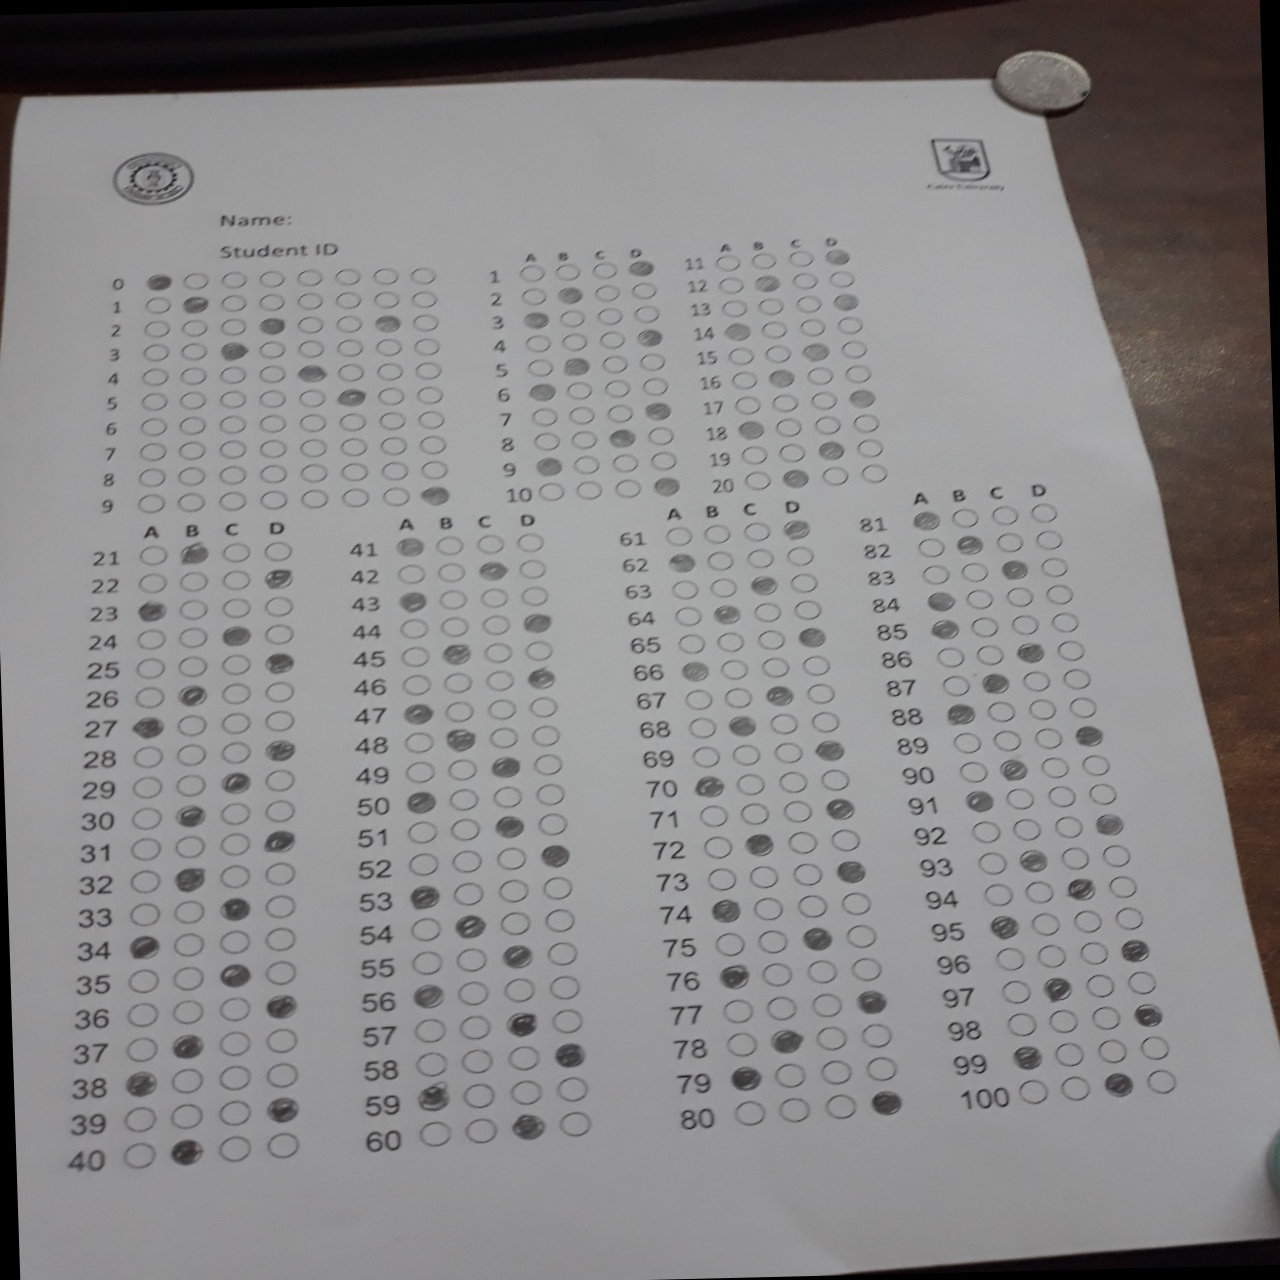not-c: (218, 1099, 256, 1126), (215, 1133, 252, 1160), (706, 574, 742, 601), (168, 1068, 205, 1094), (261, 1060, 299, 1085), (122, 1107, 159, 1132), (121, 1143, 158, 1169), (264, 1132, 301, 1158), (123, 1036, 159, 1062), (213, 1063, 250, 1089), (166, 1102, 203, 1126), (985, 697, 1015, 724), (821, 767, 851, 794), (515, 554, 545, 581), (411, 915, 442, 942), (264, 678, 294, 704), (264, 765, 294, 792), (1099, 843, 1131, 869), (1034, 724, 1065, 750), (806, 956, 838, 982), (264, 925, 295, 951), (265, 1026, 297, 1051), (139, 336, 171, 362), (297, 462, 331, 485), (676, 629, 706, 656), (723, 998, 753, 1024), (406, 760, 435, 787), (137, 542, 166, 568), (178, 622, 207, 649), (178, 712, 207, 738), (222, 862, 251, 888), (1060, 844, 1090, 870), (1012, 612, 1042, 638), (949, 504, 980, 530), (978, 849, 1008, 874), (952, 729, 982, 755), (1107, 872, 1137, 898), (1071, 907, 1102, 933), (1032, 911, 1062, 937), (1035, 942, 1065, 968), (1090, 1006, 1121, 1032), (1017, 1077, 1048, 1103), (1058, 1074, 1089, 1099), (1148, 1067, 1178, 1092), (673, 604, 703, 629), (803, 680, 833, 706), (810, 709, 840, 735), (690, 744, 721, 770), (772, 738, 803, 764), (697, 802, 728, 828), (738, 799, 769, 825), (787, 829, 817, 855), (703, 835, 734, 860), (762, 960, 792, 986), (811, 990, 842, 1016), (815, 1024, 845, 1050), (821, 1060, 851, 1085), (733, 1099, 763, 1125), (516, 529, 546, 554), (436, 559, 467, 585), (440, 613, 470, 639), (400, 617, 430, 642), (523, 638, 553, 663), (482, 639, 512, 665), (399, 642, 429, 668), (401, 670, 431, 696), (443, 669, 474, 695), (558, 1075, 588, 1101), (511, 1078, 542, 1104), (177, 568, 207, 594), (177, 652, 207, 678), (134, 655, 164, 681), (222, 681, 252, 707), (132, 686, 163, 712), (265, 707, 295, 733), (175, 774, 205, 799), (132, 772, 163, 798), (264, 797, 294, 823), (219, 1030, 250, 1056), (136, 464, 166, 490), (136, 411, 166, 437), (141, 361, 171, 387), (1054, 1041, 1085, 1065), (747, 864, 778, 888), (420, 1121, 451, 1145), (263, 593, 294, 618), (340, 485, 372, 510), (216, 489, 248, 512), (257, 486, 290, 510), (335, 408, 368, 431), (379, 482, 411, 505), (527, 406, 560, 429), (568, 425, 601, 449), (625, 278, 658, 301), (683, 685, 712, 712), (826, 1092, 855, 1119), (452, 847, 481, 874), (173, 438, 207, 461), (753, 294, 787, 316), (995, 527, 1024, 553), (990, 501, 1020, 526), (960, 557, 989, 583), (971, 613, 1000, 639), (934, 644, 964, 669), (1114, 904, 1143, 930), (995, 945, 1024, 971), (1078, 938, 1108, 964), (1002, 978, 1032, 1003), (1098, 1037, 1128, 1063), (787, 543, 816, 568), (702, 520, 731, 546), (704, 549, 734, 574), (689, 713, 719, 738), (777, 769, 806, 795), (726, 1030, 755, 1056), (866, 1056, 896, 1082), (474, 529, 503, 554), (519, 584, 549, 610), (437, 585, 467, 611), (527, 693, 557, 719), (445, 697, 475, 723), (486, 722, 516, 748), (450, 787, 479, 812), (535, 781, 564, 806), (450, 818, 479, 844), (553, 1007, 583, 1033), (559, 1110, 588, 1136), (264, 537, 293, 563), (222, 566, 251, 592), (137, 570, 166, 595), (222, 594, 251, 620), (178, 597, 207, 622), (263, 621, 292, 647), (222, 651, 251, 676), (222, 738, 251, 764), (220, 801, 250, 826), (222, 831, 251, 857), (173, 999, 203, 1024), (220, 994, 250, 1020), (1069, 694, 1099, 719), (1088, 781, 1118, 805), (1054, 813, 1084, 838), (1046, 783, 1076, 808), (1041, 754, 1071, 778), (1028, 696, 1058, 721), (1005, 585, 1035, 610), (992, 728, 1022, 753), (1012, 816, 1042, 840), (971, 821, 1001, 845), (959, 760, 989, 784), (1024, 878, 1055, 903), (1083, 972, 1114, 996), (1006, 1012, 1036, 1036), (1048, 1009, 1078, 1034), (787, 573, 817, 598), (669, 578, 700, 602), (760, 653, 790, 678), (769, 710, 799, 735), (729, 741, 760, 765), (735, 770, 765, 795), (781, 799, 811, 824), (714, 932, 744, 956), (850, 955, 880, 980), (779, 1096, 810, 1121), (482, 612, 512, 636), (484, 667, 515, 692), (537, 811, 567, 836), (407, 819, 437, 844), (408, 851, 438, 876), (413, 949, 443, 974), (503, 976, 533, 1001), (459, 1014, 490, 1039), (462, 1048, 492, 1073), (508, 1046, 538, 1070), (136, 626, 166, 651), (131, 743, 162, 768), (176, 743, 206, 768), (173, 833, 204, 858), (265, 862, 295, 886), (264, 894, 294, 919), (172, 898, 203, 922), (173, 932, 204, 956), (265, 960, 295, 985), (127, 1001, 157, 1026), (138, 492, 169, 517), (789, 599, 821, 622), (706, 867, 737, 891), (179, 268, 211, 292), (176, 314, 207, 338), (178, 387, 210, 410), (293, 388, 325, 411), (217, 292, 248, 315), (259, 265, 291, 288), (294, 264, 326, 287), (381, 457, 413, 481), (421, 457, 452, 481), (530, 429, 561, 452), (517, 259, 549, 282), (522, 284, 553, 307), (613, 477, 645, 501), (599, 326, 631, 349), (639, 375, 670, 399), (648, 450, 680, 474), (731, 395, 763, 418), (762, 341, 794, 365), (771, 415, 803, 438), (777, 441, 809, 464), (812, 415, 844, 438), (794, 313, 825, 336), (257, 462, 290, 484), (297, 437, 329, 459), (257, 437, 290, 459), (218, 363, 251, 386), (256, 338, 288, 360), (331, 264, 363, 286), (338, 434, 370, 456), (338, 462, 370, 484), (413, 408, 445, 430), (563, 402, 595, 424), (571, 456, 604, 478), (611, 451, 644, 474), (605, 403, 638, 425), (597, 304, 629, 326), (727, 369, 760, 392), (715, 297, 748, 319), (713, 275, 745, 298), (712, 253, 744, 275), (817, 464, 850, 486), (808, 389, 840, 411), (787, 267, 819, 290), (838, 365, 871, 387), (858, 464, 891, 486), (758, 626, 787, 652), (535, 751, 563, 777), (499, 910, 527, 935), (1023, 667, 1053, 692), (964, 586, 993, 611), (975, 641, 1005, 666), (942, 674, 972, 699), (983, 881, 1013, 906), (1138, 1034, 1167, 1058), (663, 523, 693, 547), (744, 547, 774, 572), (716, 628, 745, 653), (803, 653, 832, 678), (723, 685, 753, 709), (840, 890, 870, 914), (798, 892, 828, 917), (753, 896, 782, 920), (845, 922, 874, 947), (765, 994, 795, 1019), (862, 1022, 891, 1047), (774, 1061, 803, 1085), (433, 535, 462, 559), (397, 561, 427, 586), (479, 585, 509, 610), (486, 695, 516, 720), (403, 730, 433, 755), (529, 724, 558, 749), (448, 757, 477, 782), (493, 787, 523, 811), (496, 844, 525, 869), (454, 879, 483, 904), (416, 1051, 445, 1076), (222, 540, 251, 565), (219, 710, 248, 735), (130, 870, 159, 894), (220, 928, 250, 953), (173, 967, 203, 992), (137, 438, 166, 463), (1061, 668, 1091, 692), (1082, 751, 1112, 775), (1005, 787, 1035, 810), (751, 599, 782, 622), (830, 826, 860, 850), (756, 930, 787, 953), (456, 948, 486, 972), (457, 981, 488, 1005), (549, 975, 579, 999), (463, 1084, 493, 1108), (129, 838, 159, 862), (129, 903, 159, 926), (128, 968, 158, 992), (254, 387, 285, 410), (219, 388, 250, 411), (601, 352, 632, 375), (588, 258, 619, 281), (738, 442, 769, 465), (756, 318, 787, 341), (177, 339, 209, 361), (179, 365, 211, 387), (177, 413, 209, 435), (176, 492, 207, 515), (217, 413, 248, 435), (258, 411, 290, 434), (297, 411, 328, 434), (219, 362, 251, 384), (292, 335, 324, 358), (218, 315, 250, 338), (219, 268, 251, 291), (334, 362, 366, 384), (376, 383, 408, 406), (370, 263, 402, 285), (414, 384, 445, 407), (553, 261, 585, 284), (578, 477, 610, 499), (601, 377, 633, 400), (632, 304, 663, 326), (638, 350, 669, 373), (646, 425, 678, 448), (742, 468, 774, 490), (805, 365, 837, 387), (787, 244, 818, 266), (825, 268, 857, 291), (837, 339, 869, 361), (847, 411, 879, 434), (922, 563, 951, 587), (719, 658, 747, 682), (542, 874, 570, 899), (499, 877, 527, 901), (138, 387, 166, 411), (141, 316, 173, 338), (297, 486, 329, 508), (216, 438, 248, 459), (291, 314, 324, 335), (332, 336, 365, 358), (373, 335, 406, 356), (409, 314, 442, 335), (411, 359, 444, 380), (536, 479, 568, 501), (523, 358, 556, 379), (563, 377, 595, 399), (747, 252, 779, 273), (1051, 611, 1081, 634), (915, 533, 945, 557), (1126, 971, 1156, 994), (744, 520, 774, 544), (792, 862, 822, 885), (545, 908, 574, 932), (547, 941, 577, 965), (416, 1017, 445, 1041), (465, 1119, 495, 1143), (131, 805, 161, 829), (143, 293, 173, 315), (261, 290, 292, 312), (294, 290, 325, 312), (832, 314, 863, 336), (141, 316, 172, 338), (173, 465, 205, 486), (217, 465, 248, 486), (335, 288, 367, 309), (331, 313, 362, 334), (376, 433, 408, 454), (375, 406, 407, 427), (369, 287, 401, 308), (408, 263, 440, 284), (409, 288, 441, 309), (410, 338, 442, 359), (416, 434, 448, 455), (523, 331, 554, 352), (728, 343, 760, 365), (771, 392, 803, 413), (792, 291, 824, 312), (855, 438, 886, 459), (1057, 636, 1085, 660), (592, 279, 621, 301), (375, 358, 406, 379), (1039, 556, 1067, 578), (1029, 502, 1058, 523), (1035, 527, 1064, 549), (1043, 583, 1073, 604), (557, 308, 587, 328), (561, 331, 590, 350)
taken-c: (175, 799, 207, 828), (263, 995, 297, 1022), (719, 962, 751, 989), (870, 1091, 903, 1118), (218, 896, 251, 922), (173, 866, 206, 893), (134, 597, 166, 624), (263, 565, 295, 592), (771, 1027, 803, 1054), (267, 1096, 299, 1123), (219, 962, 251, 989), (220, 769, 252, 796), (135, 712, 166, 738), (220, 620, 252, 647), (856, 988, 888, 1014), (728, 1064, 761, 1090), (418, 1085, 451, 1111), (170, 1033, 203, 1058), (261, 826, 294, 852), (263, 735, 295, 761), (263, 651, 295, 676), (1117, 939, 1151, 964), (978, 672, 1012, 696), (908, 508, 942, 532), (930, 618, 964, 642), (942, 704, 976, 729), (986, 917, 1020, 941), (1099, 1073, 1133, 1097), (692, 775, 726, 799), (523, 666, 557, 690), (399, 700, 433, 724), (177, 539, 207, 566), (171, 1138, 203, 1164), (123, 1069, 155, 1095), (177, 682, 209, 708), (1017, 850, 1050, 874), (796, 625, 829, 649), (679, 658, 712, 682), (723, 713, 756, 737), (812, 738, 845, 763), (520, 612, 553, 636), (394, 588, 427, 613), (493, 813, 526, 838), (513, 1115, 546, 1139), (127, 933, 159, 958), (1012, 640, 1046, 663), (962, 790, 996, 813), (1043, 978, 1077, 1001), (1009, 1043, 1043, 1067), (1133, 1003, 1167, 1027), (665, 551, 699, 574), (712, 601, 745, 625), (444, 729, 478, 753), (499, 945, 533, 968), (413, 985, 447, 1008), (554, 1043, 588, 1067), (395, 535, 427, 559), (406, 789, 437, 813), (1075, 724, 1108, 748), (1092, 813, 1125, 837), (1067, 879, 1099, 903), (926, 591, 959, 614), (781, 518, 813, 542), (762, 682, 795, 706), (825, 798, 858, 822), (741, 833, 774, 857), (799, 928, 832, 952), (475, 558, 508, 581), (488, 756, 520, 779), (540, 845, 573, 869), (409, 885, 442, 908), (506, 1013, 539, 1036), (420, 485, 452, 509), (710, 899, 744, 921), (1000, 556, 1032, 579), (999, 757, 1032, 779), (952, 532, 985, 554), (747, 576, 779, 598), (440, 644, 472, 666), (452, 915, 485, 938), (833, 860, 866, 881), (522, 309, 553, 329), (767, 367, 798, 387), (297, 362, 327, 382), (625, 257, 655, 277), (561, 356, 592, 376), (633, 328, 663, 348), (651, 477, 681, 497), (607, 427, 638, 447), (721, 321, 751, 341), (779, 469, 810, 489), (844, 388, 874, 408), (832, 292, 863, 312), (372, 315, 403, 334), (527, 382, 557, 402), (557, 285, 586, 305), (641, 401, 670, 421), (736, 420, 765, 440), (801, 341, 830, 361), (818, 441, 847, 461), (535, 457, 565, 476), (750, 273, 781, 292), (825, 247, 855, 266), (258, 316, 285, 336), (336, 387, 365, 406), (222, 340, 247, 359), (181, 293, 206, 312), (145, 271, 171, 290)
